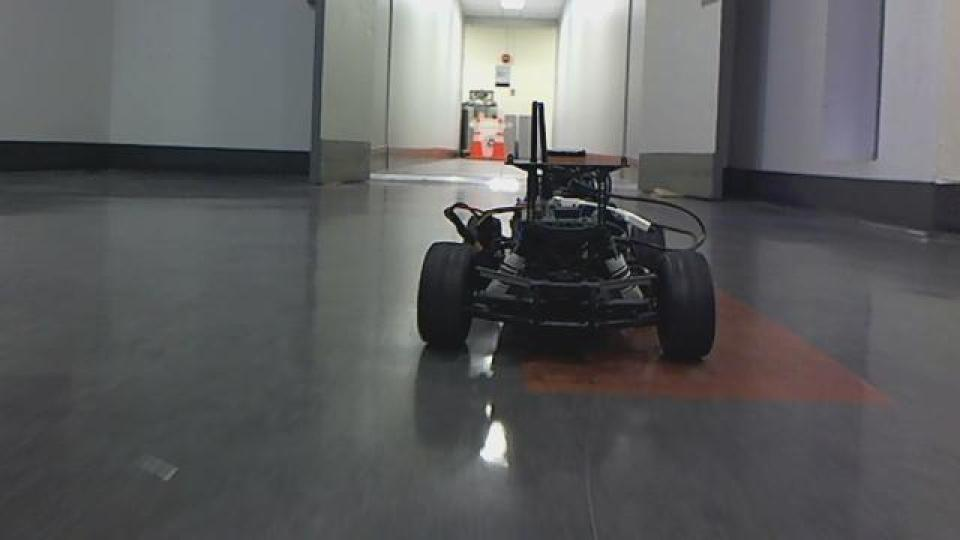car: (413, 99, 719, 365)
